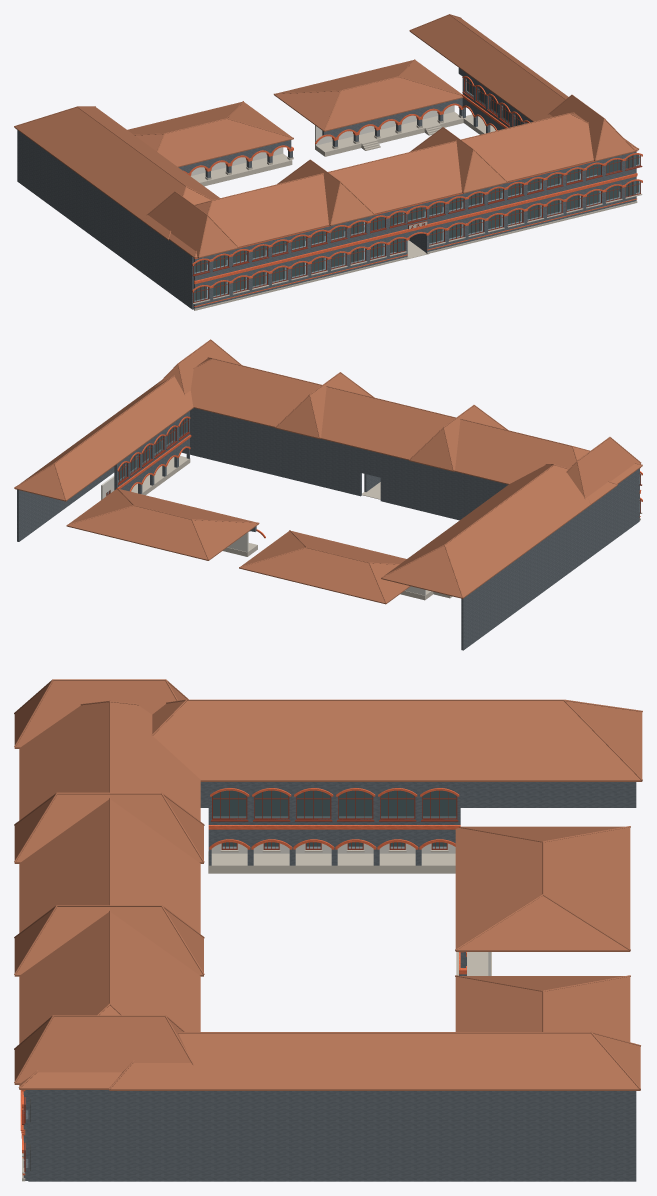
The model's file is full-source.glb.
3 views of the same model, one above another, from view 1: azimuth 30°, elevation 25°; view 2: azimuth 150°, elevation 25°; view 3: azimuth 270°, elevation 25° (orthographic). The views are drawn at different scales.
Parts seen in each view (by area): view 1: 圣约翰中学西门堂22号楼院廊与东风楼门额; view 2: 圣约翰中学西门堂22号楼院廊与东风楼门额; view 3: 圣约翰中学西门堂22号楼院廊与东风楼门额.
Part boxes in pixels (bbox=[...]): 圣约翰中学西门堂22号楼院廊与东风楼门额: bbox=[14, 14, 642, 310]; 圣约翰中学西门堂22号楼院廊与东风楼门额: bbox=[14, 339, 642, 650]; 圣约翰中学西门堂22号楼院廊与东风楼门额: bbox=[14, 679, 642, 1181].
Bounding box in the file's own units: 73.66 × 13.21 × 51.37.
Materials: 9 (2 with a texture image).
